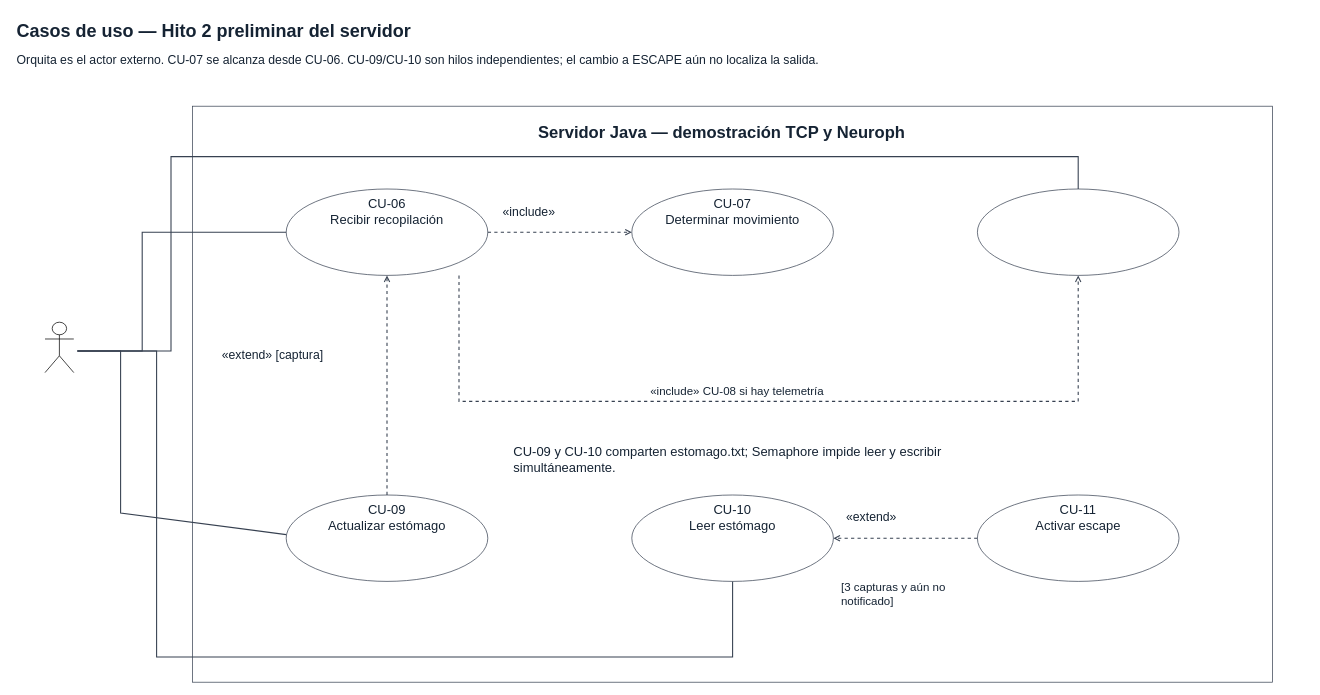
Image size: 1320x695. Some labels were removed from this diagram. The centre of each missing label's shape, as x and y in pixels:
"CU-08 Enviar orden" goes at [1078,231].
"Orquita" goes at [59,347].
